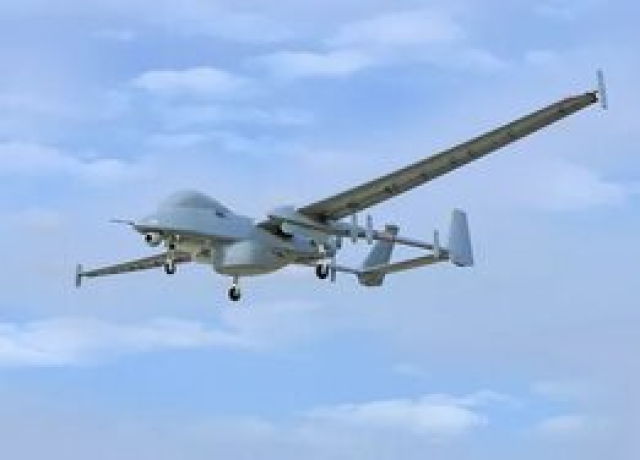military drone: (74, 68, 608, 301)
